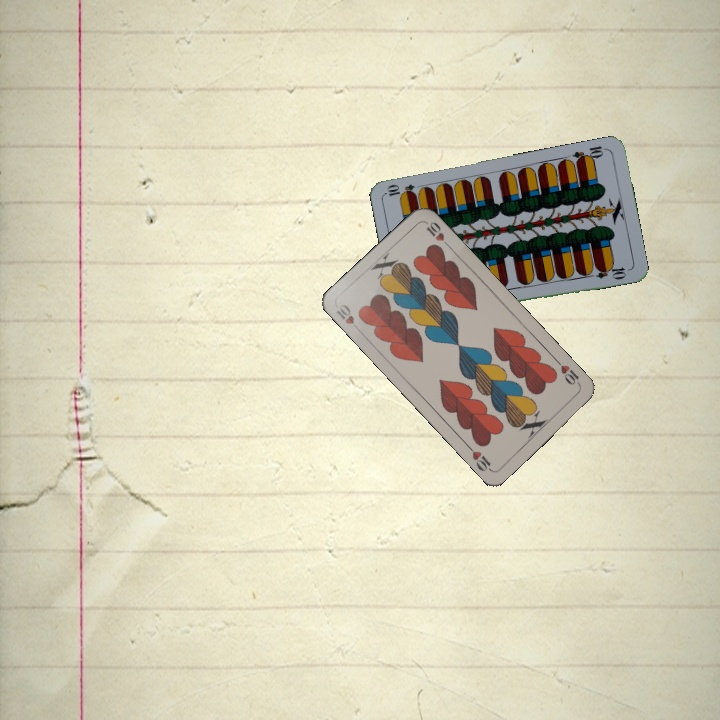E10: (569, 142, 609, 166)
H10: (332, 300, 364, 335), (552, 356, 583, 389)
